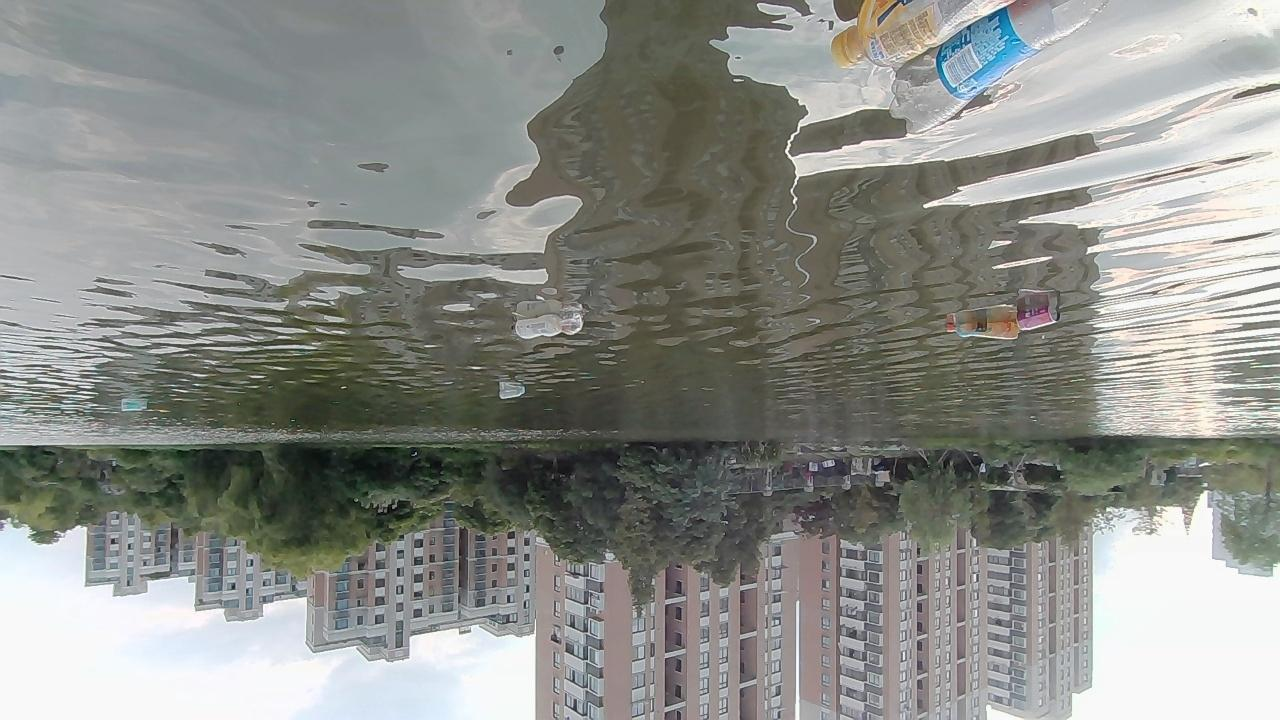Metal: (1016, 304, 1061, 331)
Plastic: (886, 0, 1113, 136), (828, 0, 1019, 71), (944, 320, 1020, 341), (510, 313, 563, 340), (498, 388, 526, 400), (120, 404, 148, 412)
